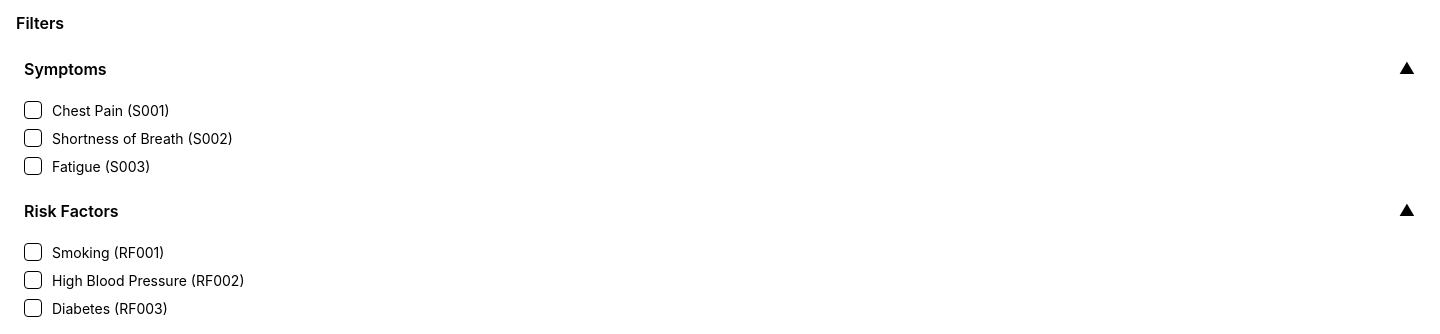
Test case: <FilterPanel /> component › toggles filter group visibility when clicked
expect the checkbox labelled "Chest Pain (S001)" is shown: met, box x1=24 y1=101 x2=42 y2=119
// Click to collapse
Click the button "Symptoms ▼".
click(65, 69)  # box x1=16 y1=49 x2=1424 y2=89
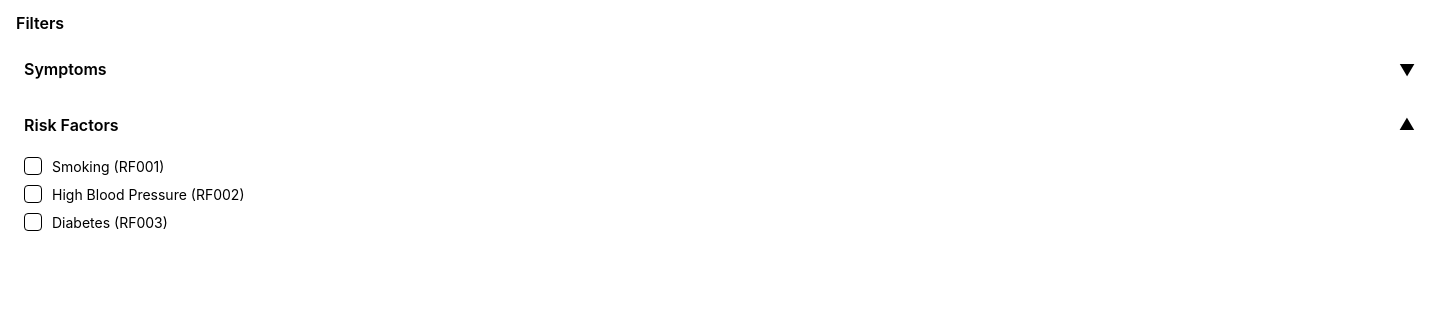
expect the label labelled "Chest Pain" is gone: met
// Click to expand again
Click the button "Symptoms ▼".
click(65, 69)  # box x1=16 y1=49 x2=1424 y2=89
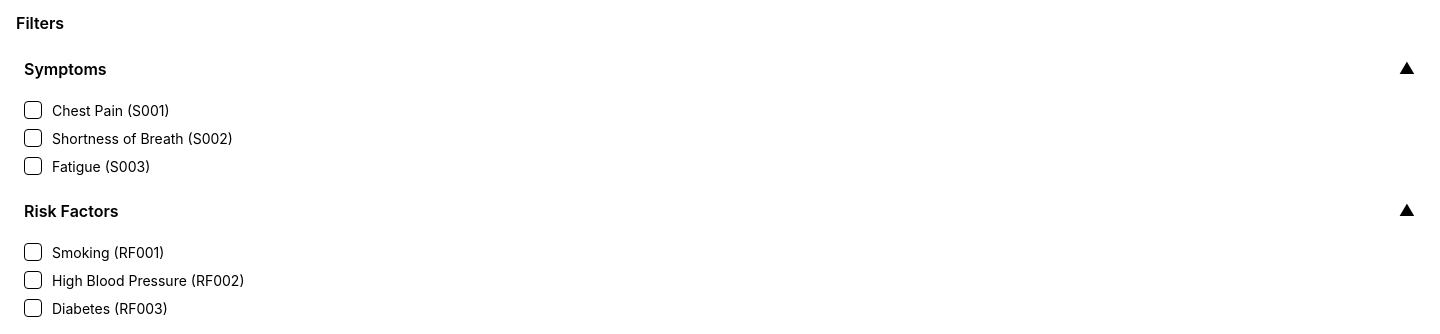
expect the checkbox labelled "Chest Pain (S001)" is shown: met, box x1=24 y1=101 x2=42 y2=119
